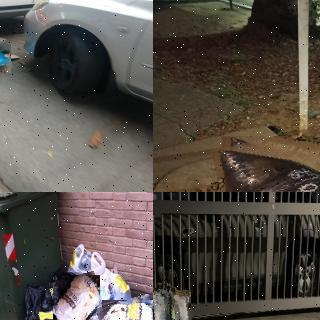Garbage: (216, 130, 320, 192), (50, 273, 102, 320), (67, 242, 104, 288), (96, 268, 134, 310), (98, 296, 153, 320), (153, 287, 178, 320), (173, 289, 194, 320), (0, 41, 12, 75)
